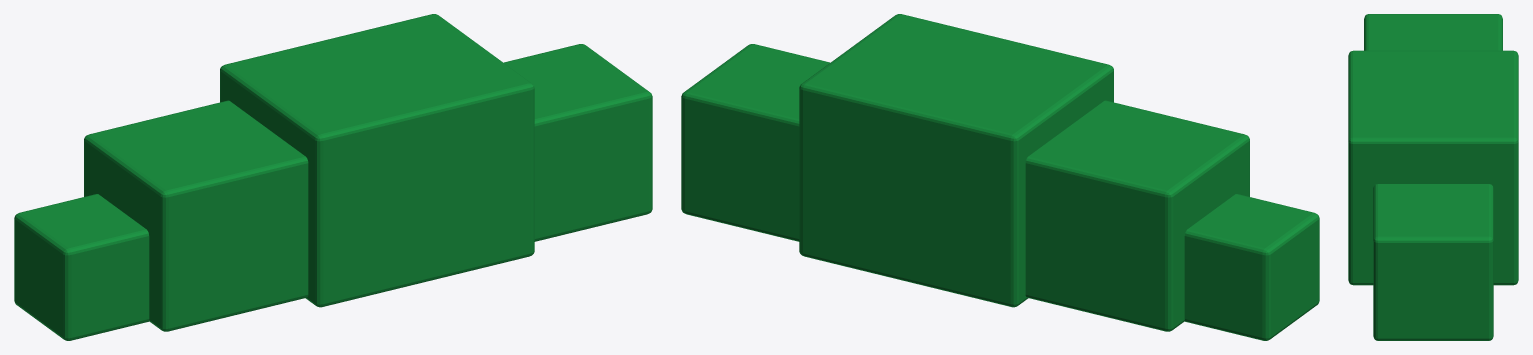
Rendered from Bush.fbx.
3 views of the same model, side by side, from view 1: azimuth 30°, elevation 25°; view 2: azimuth 150°, elevation 25°; view 3: azimuth 270°, elevation 25° (orthographic). The views are drawn at different scales.
Visible parts, largest first — view 1: Cube.003; view 2: Cube.003; view 3: Cube.003.
Boxes of the visible parts, x1,y1,x2,y2 form: Cube.003: (14,14,652,340); Cube.003: (681,14,1319,340); Cube.003: (1348,14,1518,340).
Size of the model in its own units: 530 by 151 by 158.
1 material, 1 textured.
